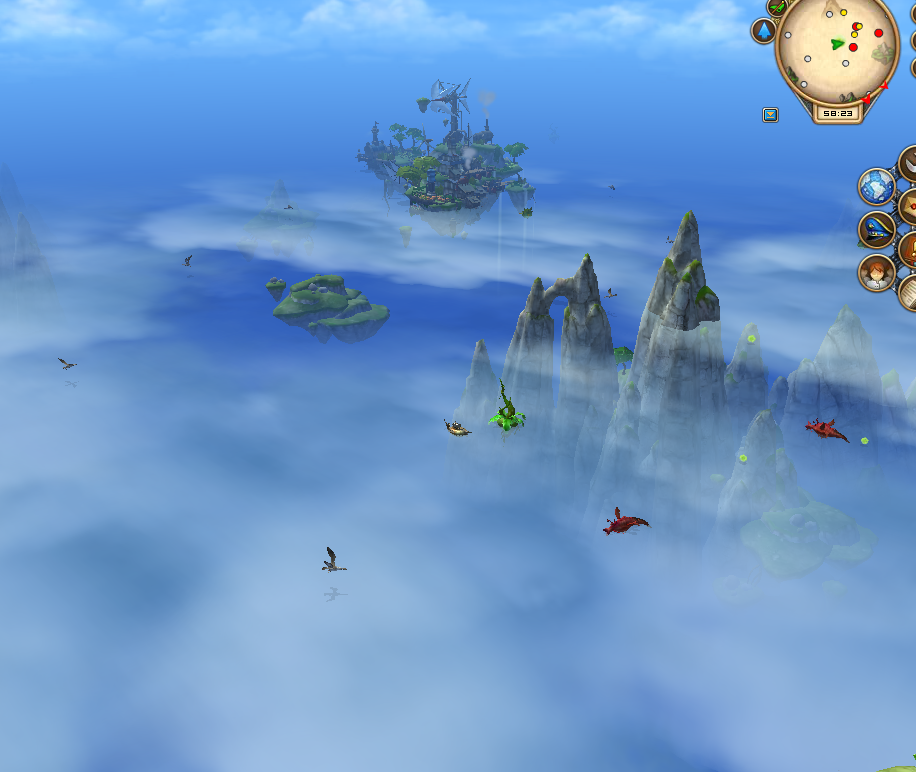dandelion-empty: (487, 372, 528, 443)
fluff: (746, 330, 759, 348), (736, 451, 750, 466), (857, 434, 871, 448)
